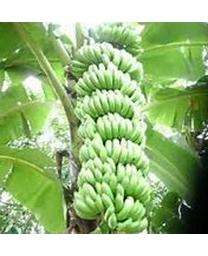banana: (67, 22, 151, 234)
